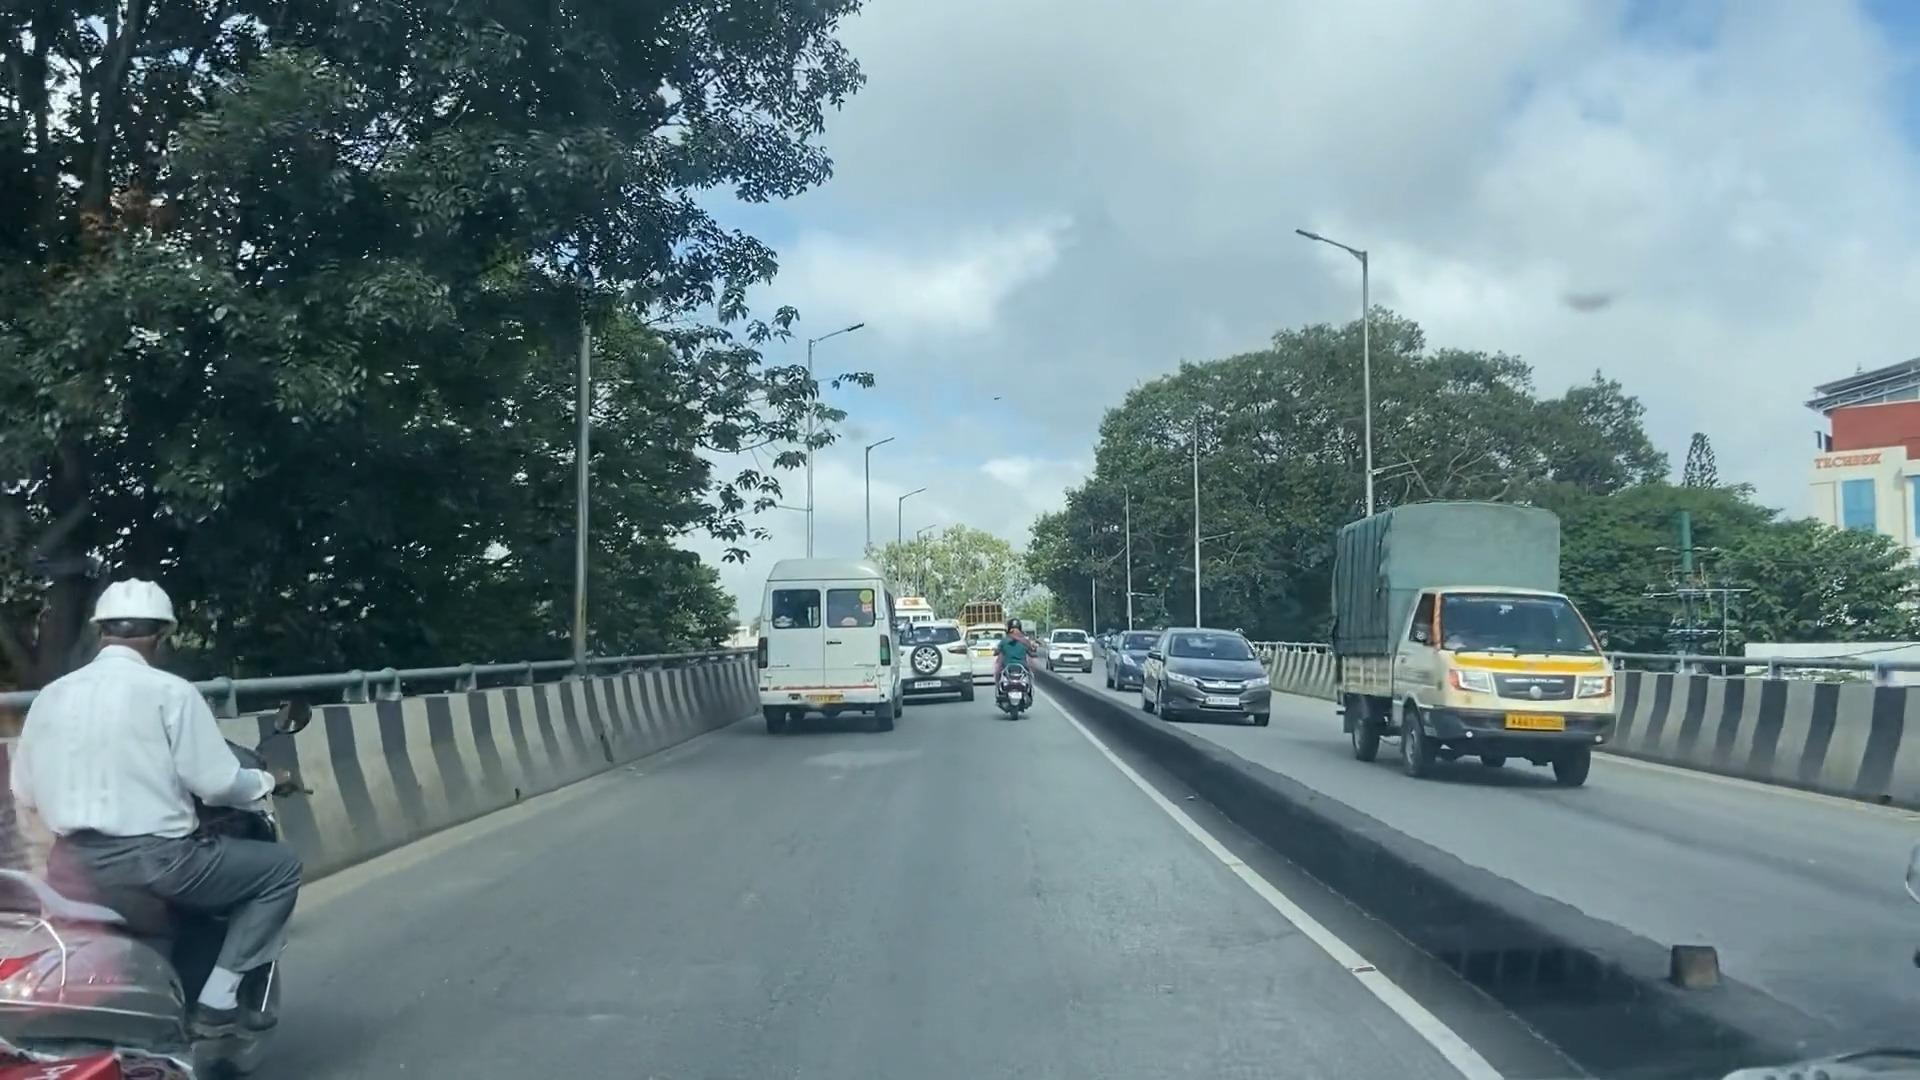HMV: (773, 576, 899, 716)
LMV: (0, 570, 294, 1080), (997, 615, 1030, 720)
